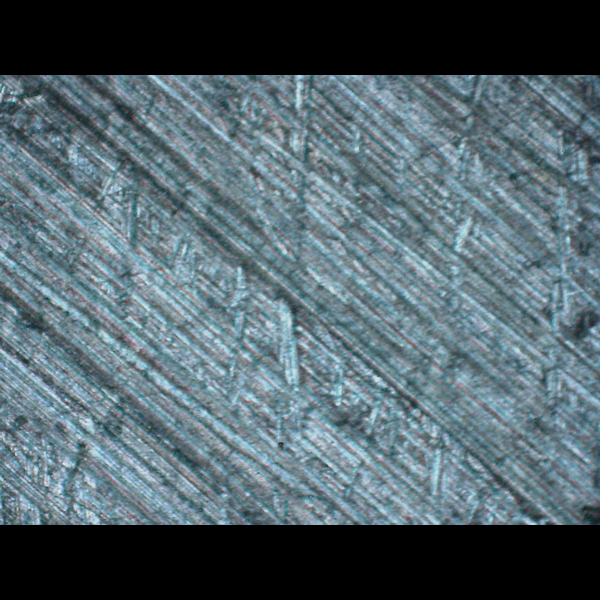d: (217, 257, 319, 416)
